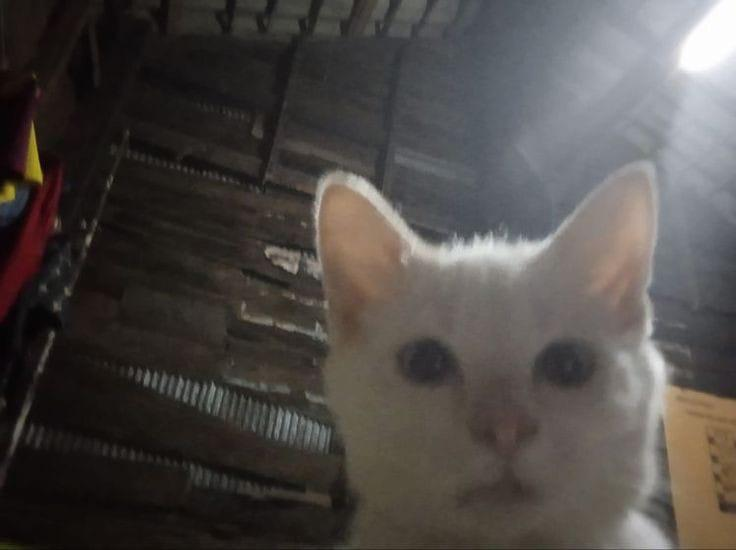kedo: (308, 165, 670, 550)
